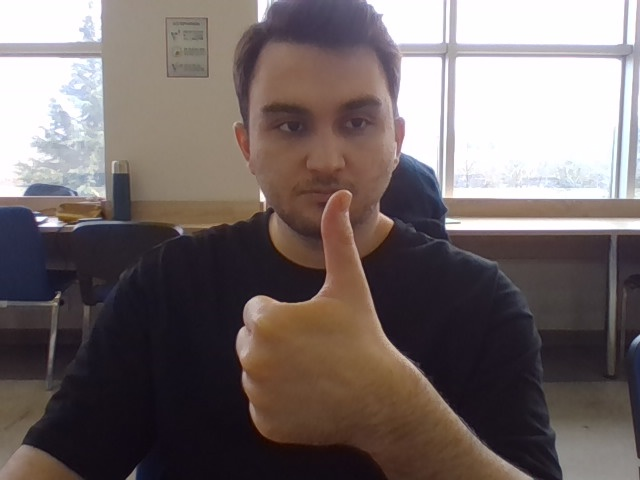thumbsup: (234, 189, 383, 447)
